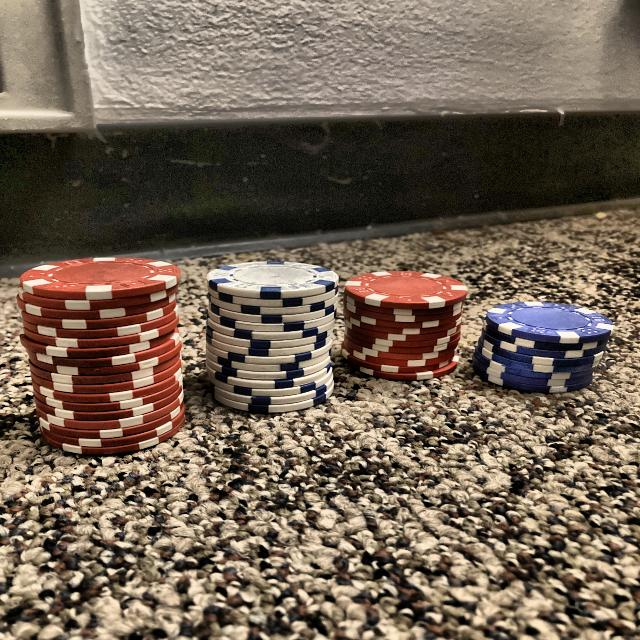Chip: (21, 222, 189, 472), (198, 237, 346, 427), (334, 242, 478, 395), (457, 283, 630, 397)
